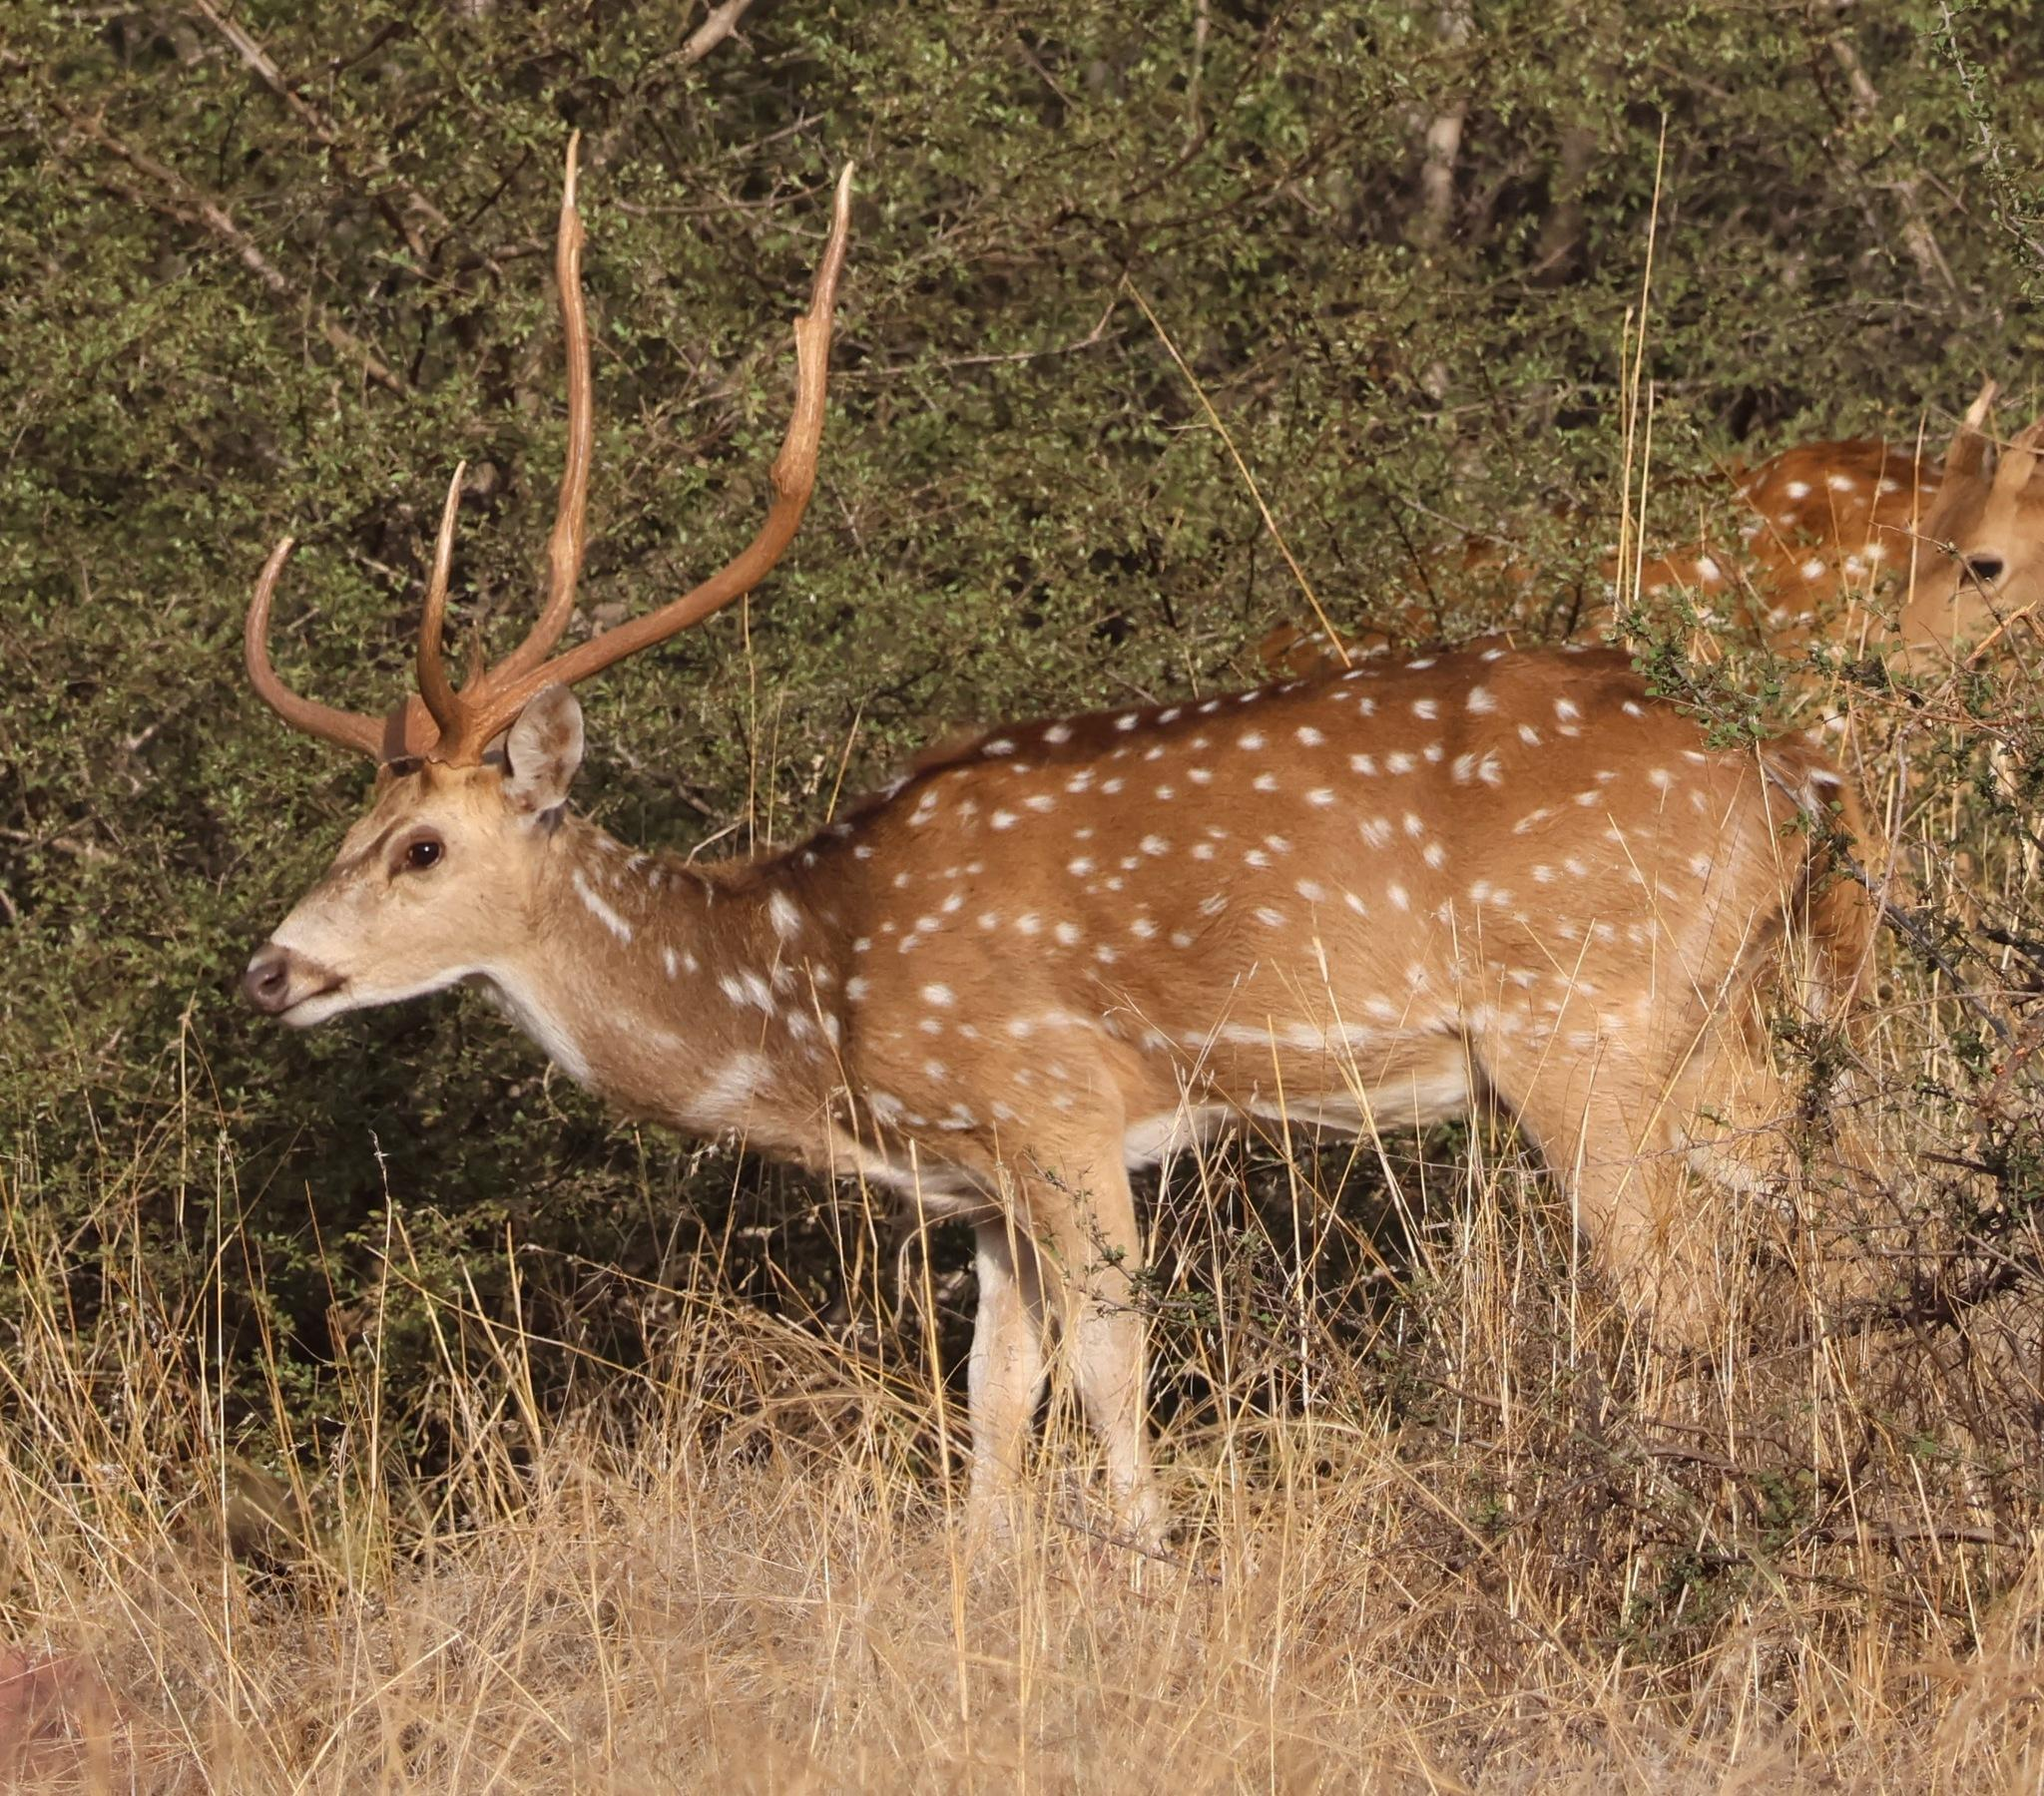Deer: (243, 139, 1839, 1539)
